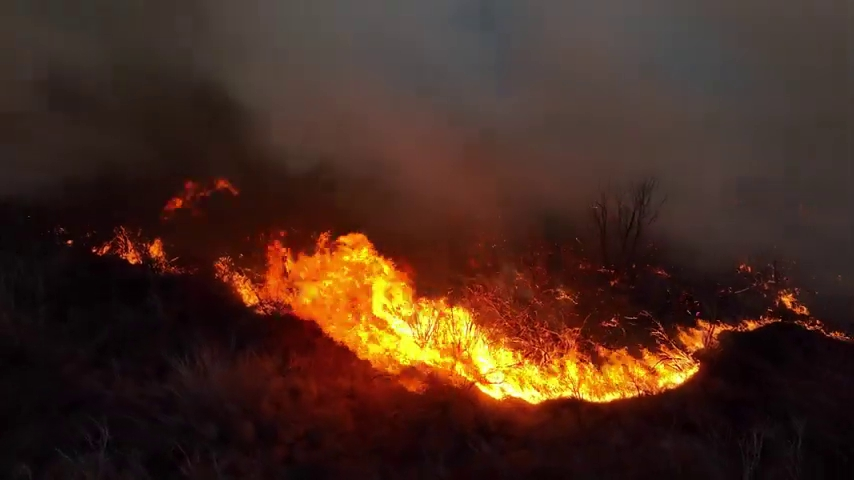forest_fire: (216, 233, 779, 402), (94, 228, 176, 270), (774, 291, 845, 338), (163, 179, 237, 215), (504, 318, 512, 320)
